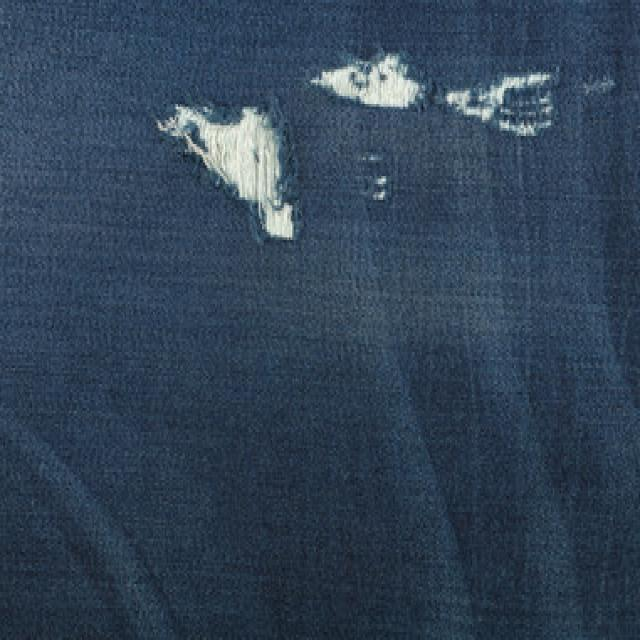Hole: (158, 105, 295, 240), (447, 72, 554, 136), (311, 54, 423, 108), (360, 150, 397, 208), (580, 73, 616, 96)
